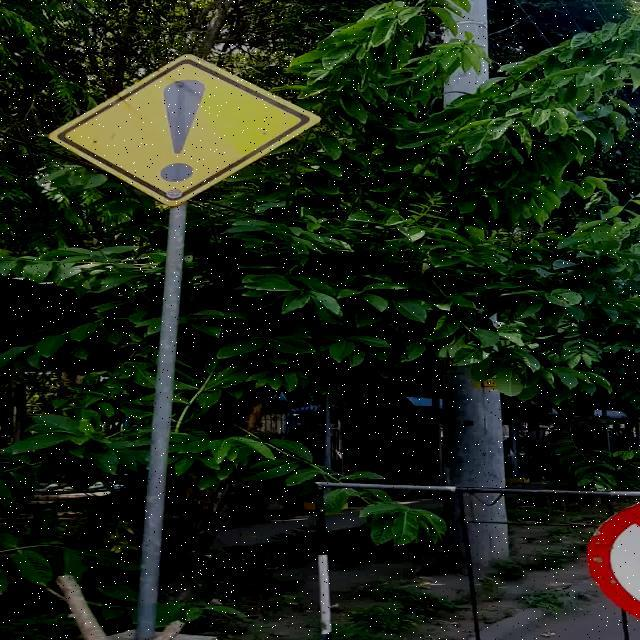Hati-Hati: (48, 52, 320, 206)
